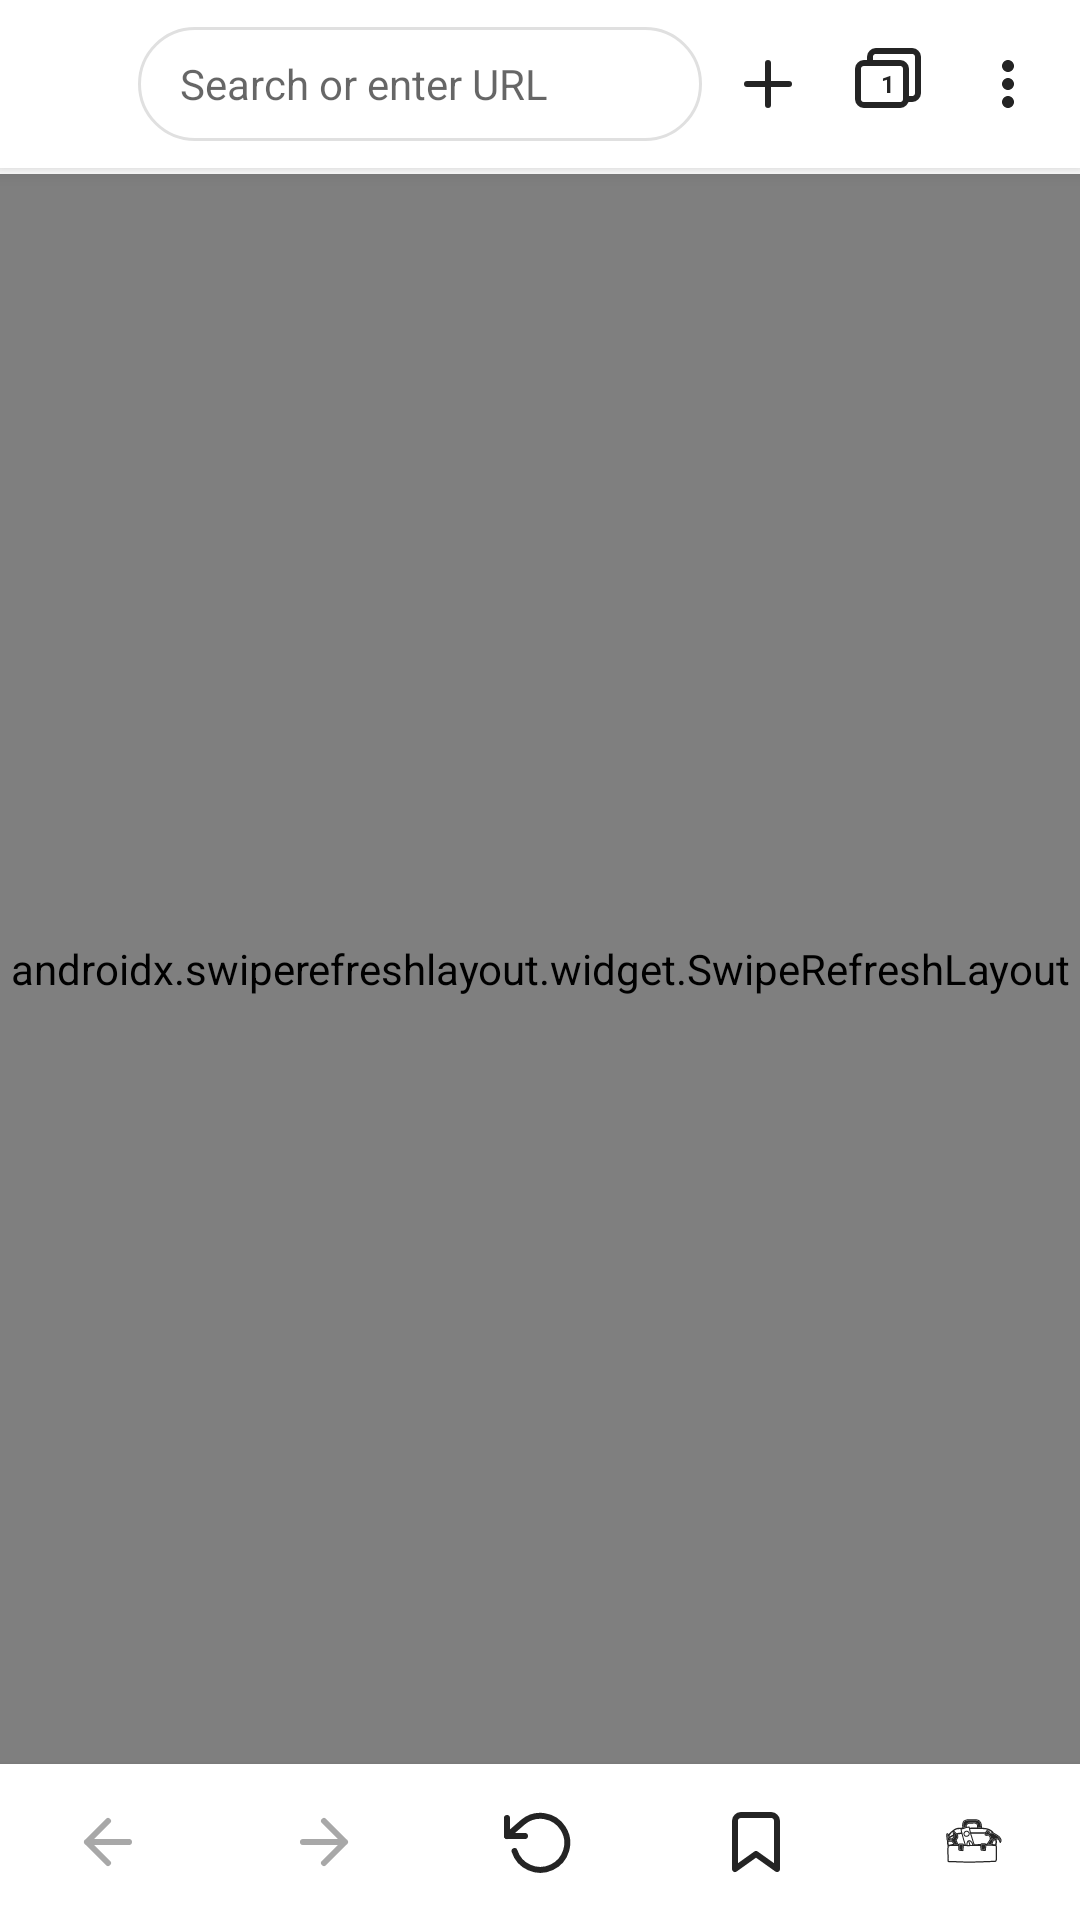

Icons on this 1080px x 1920px Android screen, each with its box as detection(x1, y1, x2, y2):
Back: detection(84, 1818, 132, 1866)
Bookmark: detection(732, 1812, 780, 1872)
Forward: detection(300, 1818, 348, 1866)
Menu: detection(1002, 60, 1014, 108)
New Tab: detection(744, 60, 792, 108)
